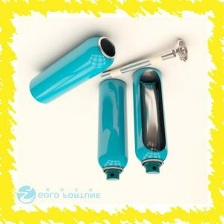aerosol_cans: (26, 33, 118, 106), (128, 62, 170, 178), (93, 74, 128, 184)
